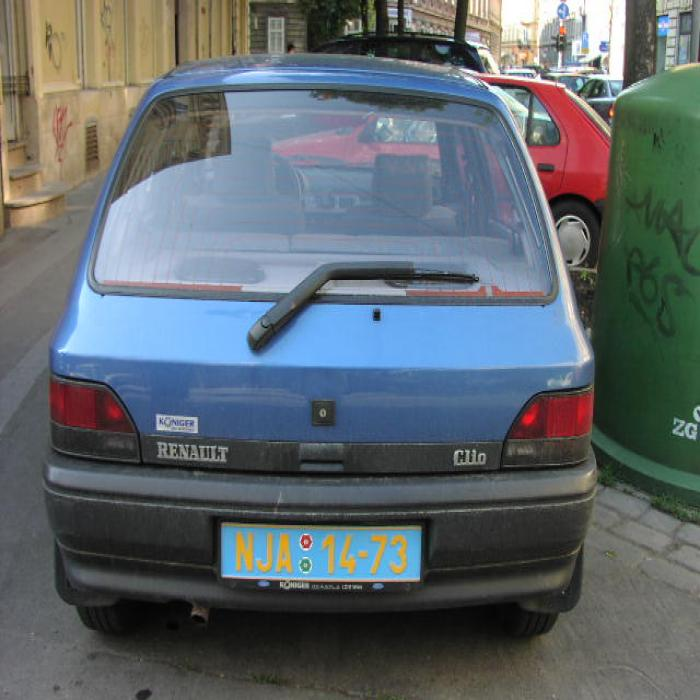number_plate: (223, 526, 418, 580)
